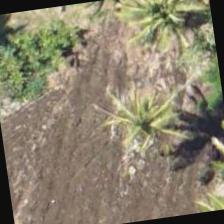Kelapa_Sawit: (83, 74, 185, 176), (114, 0, 213, 66)
